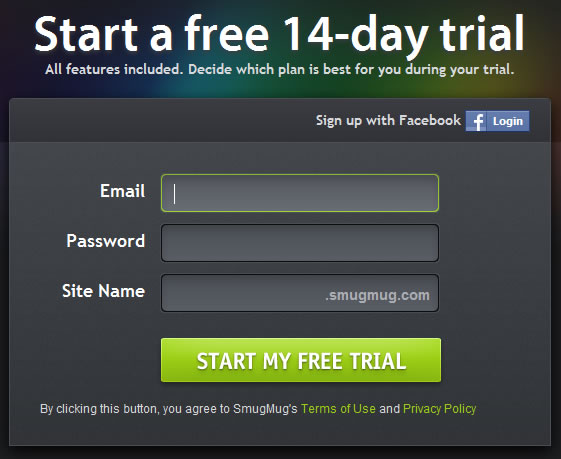_form_: (39, 36, 455, 452), (139, 99, 542, 416)
button: (159, 337, 442, 383), (465, 109, 529, 132)
field: (159, 223, 440, 264), (158, 273, 441, 313), (159, 173, 440, 213)
field_with_label: (61, 271, 443, 315), (64, 221, 442, 265), (98, 170, 442, 215)
